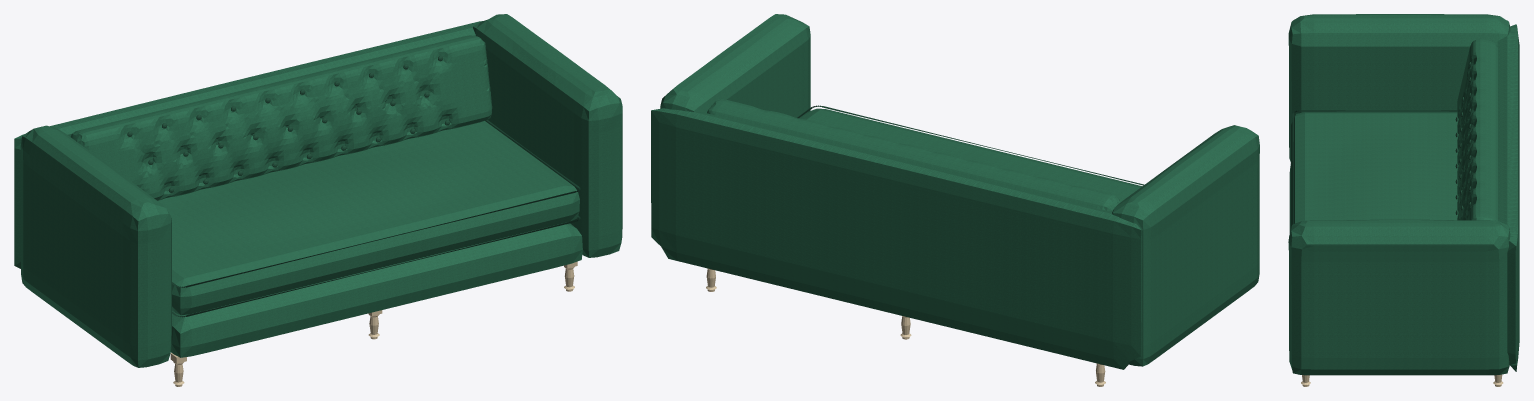
File: FET-SOF-3-seat.glb
3 views of the same model, side by side, from view 1: azimuth 30°, elevation 25°; view 2: azimuth 150°, elevation 25°; view 3: azimuth 270°, elevation 25° (orthographic). The views are drawn at different scales.
Parts seen in each view (by area): view 1: seat:fabric:eyJwcmVzZXQiOiJ2ZWx2ZXQiLCJ3YXJwIjoiZW1lcmFsZCIs, inside-back:fabric:eyJwcmVzZXQiOiJ2ZWx2ZXQiLCJ3YXJwIjoiZW1lc, arm-pad-l:fabric:eyJwcmVzZXQiOiJ2ZWx2ZXQiLCJ3YXJwIjoiZW1lcmF, arm-pad-r:fabric:eyJwcmVzZXQiOiJ2ZWx2ZXQiLCJ3YXJwIjoiZW1lcmF, deck:fabric:eyJwcmVzZXQiOiJ2ZWx2ZXQiLCJ3YXJwIjoiZW1lcmFsZCIs, back-pad:fabric:eyJwcmVzZXQiOiJ2ZWx2ZXQiLCJ3YXJwIjoiZW1lcmFs, seat:piping:pbr, inside-back:buttons:pbr; view 2: back-pad:fabric:eyJwcmVzZXQiOiJ2ZWx2ZXQiLCJ3YXJwIjoiZW1lcmFs, arm-pad-l:fabric:eyJwcmVzZXQiOiJ2ZWx2ZXQiLCJ3YXJwIjoiZW1lcmF, arm-pad-r:fabric:eyJwcmVzZXQiOiJ2ZWx2ZXQiLCJ3YXJwIjoiZW1lcmF, inside-back:fabric:eyJwcmVzZXQiOiJ2ZWx2ZXQiLCJ3YXJwIjoiZW1lc, seat:fabric:eyJwcmVzZXQiOiJ2ZWx2ZXQiLCJ3YXJwIjoiZW1lcmFsZCIs, seat:piping:pbr; view 3: arm-pad-r:fabric:eyJwcmVzZXQiOiJ2ZWx2ZXQiLCJ3YXJwIjoiZW1lcmF, arm-pad-l:fabric:eyJwcmVzZXQiOiJ2ZWx2ZXQiLCJ3YXJwIjoiZW1lcmF, seat:fabric:eyJwcmVzZXQiOiJ2ZWx2ZXQiLCJ3YXJwIjoiZW1lcmFsZCIs, inside-back:fabric:eyJwcmVzZXQiOiJ2ZWx2ZXQiLCJ3YXJwIjoiZW1lc, back-pad:fabric:eyJwcmVzZXQiOiJ2ZWx2ZXQiLCJ3YXJwIjoiZW1lcmFs, seat:piping:pbr, inside-back:buttons:pbr.
Boxes of the visible parts, x1=… form: seat:fabric:eyJwcmVzZXQiOiJ2ZWx2ZXQiLCJ3YXJwIjoiZW1lcmFsZCIs: x1=158, y1=121, x2=579, y2=314; inside-back:fabric:eyJwcmVzZXQiOiJ2ZWx2ZXQiLCJ3YXJwIjoiZW1lc: x1=71, y1=35, x2=492, y2=200; arm-pad-l:fabric:eyJwcmVzZXQiOiJ2ZWx2ZXQiLCJ3YXJwIjoiZW1lcmF: x1=20, y1=125, x2=171, y2=367; arm-pad-r:fabric:eyJwcmVzZXQiOiJ2ZWx2ZXQiLCJ3YXJwIjoiZW1lcmF: x1=473, y1=14, x2=622, y2=257; deck:fabric:eyJwcmVzZXQiOiJ2ZWx2ZXQiLCJ3YXJwIjoiZW1lcmFsZCIs: x1=171, y1=222, x2=582, y2=357; back-pad:fabric:eyJwcmVzZXQiOiJ2ZWx2ZXQiLCJ3YXJwIjoiZW1lcmFs: x1=14, y1=21, x2=482, y2=268; seat:piping:pbr: x1=172, y1=120, x2=580, y2=317; inside-back:buttons:pbr: x1=127, y1=55, x2=449, y2=192; back-pad:fabric:eyJwcmVzZXQiOiJ2ZWx2ZXQiLCJ3YXJwIjoiZW1lcmFs: x1=651, y1=108, x2=1141, y2=369; arm-pad-l:fabric:eyJwcmVzZXQiOiJ2ZWx2ZXQiLCJ3YXJwIjoiZW1lcmF: x1=1112, y1=125, x2=1259, y2=366; arm-pad-r:fabric:eyJwcmVzZXQiOiJ2ZWx2ZXQiLCJ3YXJwIjoiZW1lcmF: x1=660, y1=14, x2=810, y2=118; inside-back:fabric:eyJwcmVzZXQiOiJ2ZWx2ZXQiLCJ3YXJwIjoiZW1lc: x1=707, y1=99, x2=1120, y2=211; seat:fabric:eyJwcmVzZXQiOiJ2ZWx2ZXQiLCJ3YXJwIjoiZW1lcmFsZCIs: x1=800, y1=108, x2=1142, y2=202; seat:piping:pbr: x1=797, y1=105, x2=1144, y2=185; arm-pad-r:fabric:eyJwcmVzZXQiOiJ2ZWx2ZXQiLCJ3YXJwIjoiZW1lcmF: x1=1288, y1=219, x2=1510, y2=375; arm-pad-l:fabric:eyJwcmVzZXQiOiJ2ZWx2ZXQiLCJ3YXJwIjoiZW1lcmF: x1=1288, y1=14, x2=1510, y2=162; seat:fabric:eyJwcmVzZXQiOiJ2ZWx2ZXQiLCJ3YXJwIjoiZW1lcmFsZCIs: x1=1291, y1=112, x2=1458, y2=227; inside-back:fabric:eyJwcmVzZXQiOiJ2ZWx2ZXQiLCJ3YXJwIjoiZW1lc: x1=1457, y1=38, x2=1497, y2=220; back-pad:fabric:eyJwcmVzZXQiOiJ2ZWx2ZXQiLCJ3YXJwIjoiZW1lcmFs: x1=1497, y1=24, x2=1519, y2=371; seat:piping:pbr: x1=1292, y1=110, x2=1457, y2=223; inside-back:buttons:pbr: x1=1455, y1=62, x2=1470, y2=214.
Bounding box in the file's own units: 2.1 × 0.78 × 0.92.
14 materials, 6 textured.
